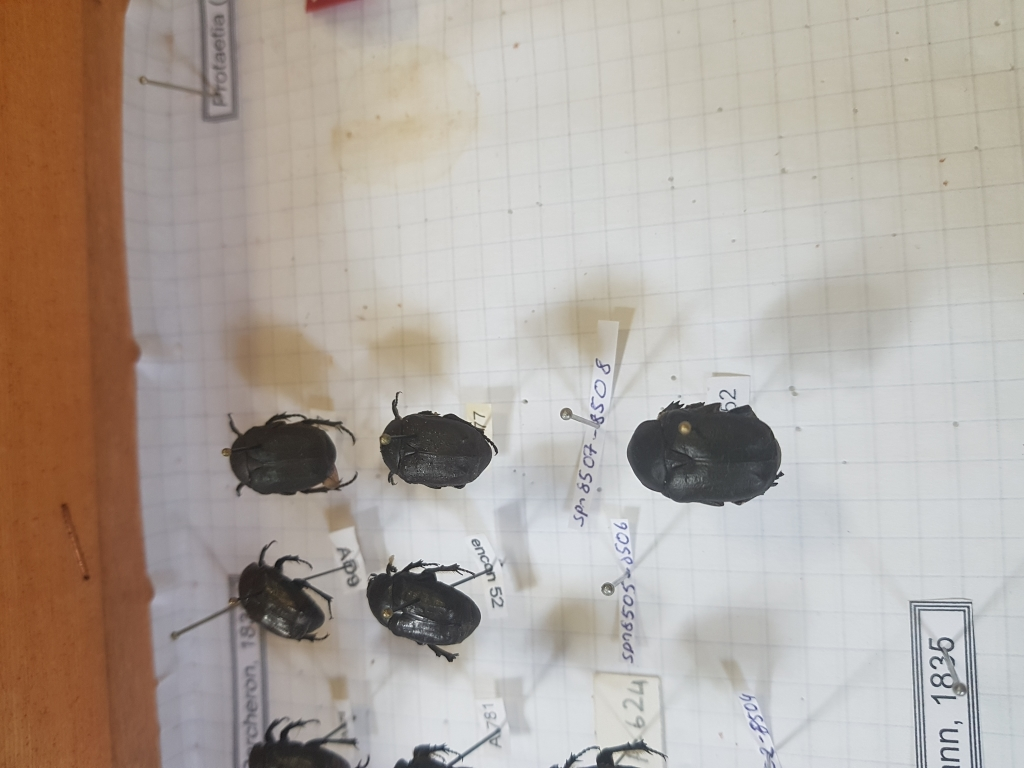Protaetia_vidua: (613, 398, 786, 510), (361, 547, 504, 662), (369, 389, 505, 495), (216, 409, 361, 501), (234, 539, 337, 641)
